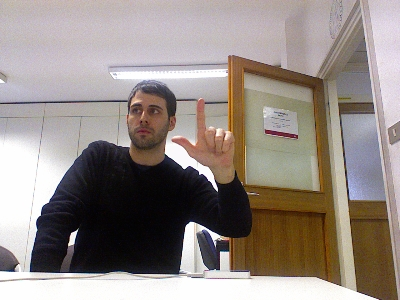枪: (169, 96, 235, 168)
